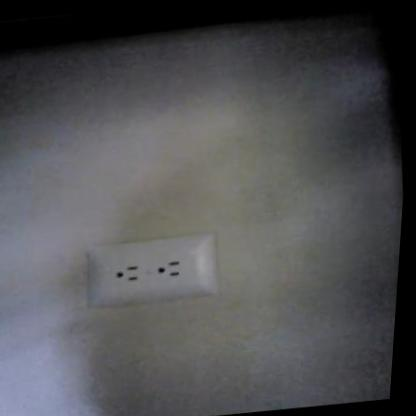OUTLET: (78, 231, 224, 311)
